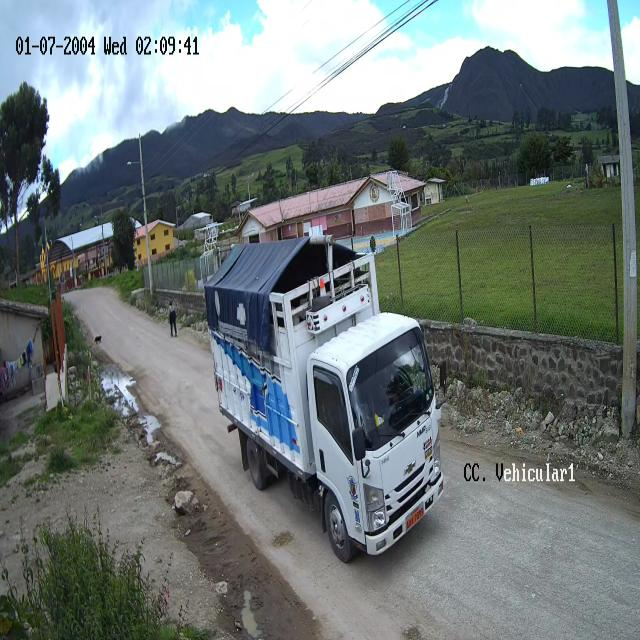TRUCK: (202, 236, 445, 563)
